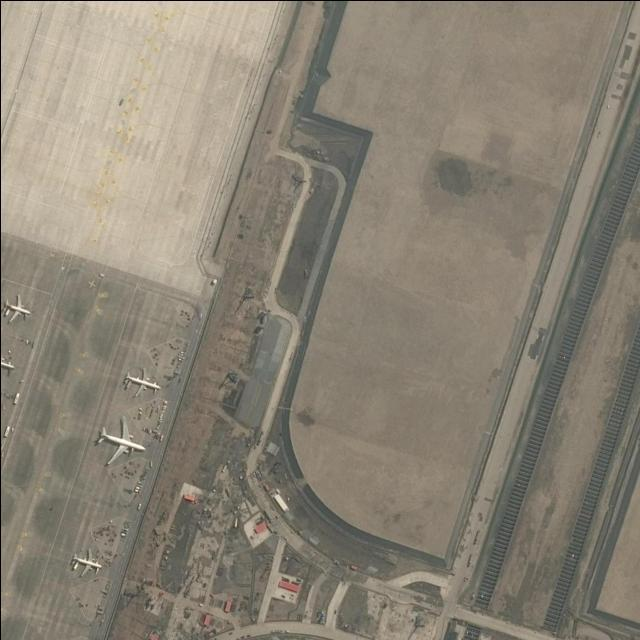Aircraft: (92, 422, 144, 467), (121, 367, 159, 397), (68, 546, 106, 576), (0, 295, 34, 323), (0, 347, 16, 377)
